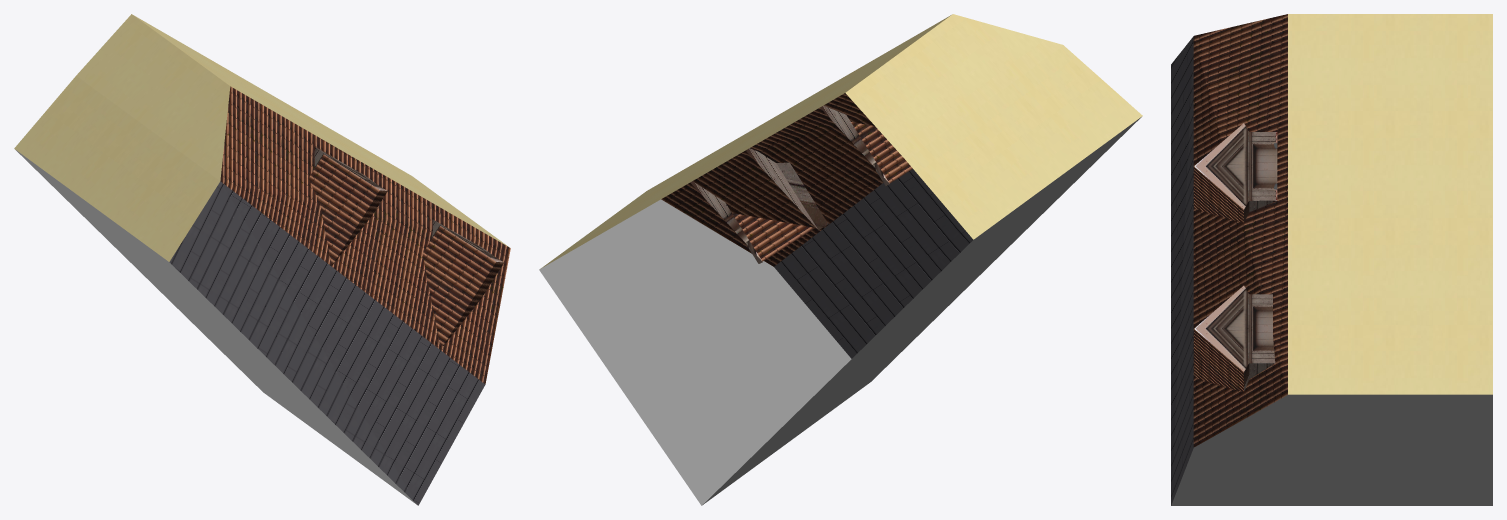
Rendered from Laboratooriumi_22_2.obj.
3 views of the same model, side by side, from view 1: azimuth 30°, elevation 25°; view 2: azimuth 150°, elevation 25°; view 3: azimuth 270°, elevation 25° (orthographic). The views are drawn at different scales.
Parts seen in each view (by area): view 1: Laboratooriumi_22_2; view 2: Laboratooriumi_22_2; view 3: Laboratooriumi_22_2.
Part boxes in pixels (x1=…): Laboratooriumi_22_2: x1=14, y1=14, x2=510, y2=505; Laboratooriumi_22_2: x1=539, y1=14, x2=1142, y2=505; Laboratooriumi_22_2: x1=1171, y1=14, x2=1492, y2=505.
Bounding box in the file's own units: 10.13 × 9.99 × 6.84.
